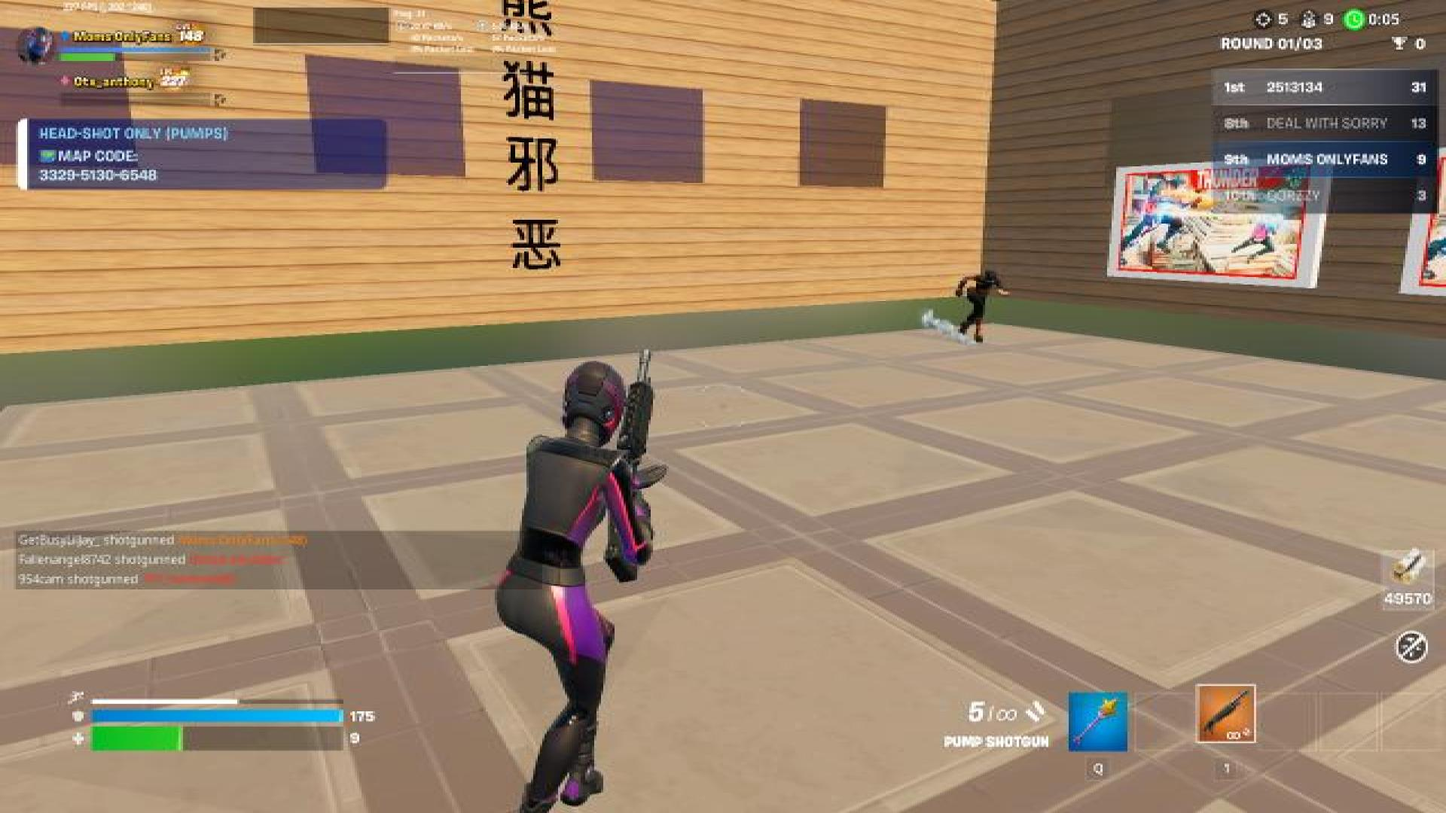player: (951, 268, 1012, 344)
